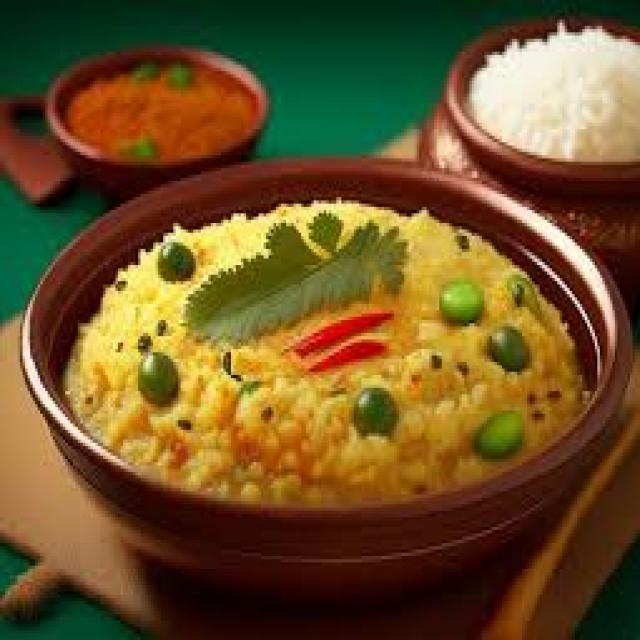UPMA: (58, 197, 587, 501)
